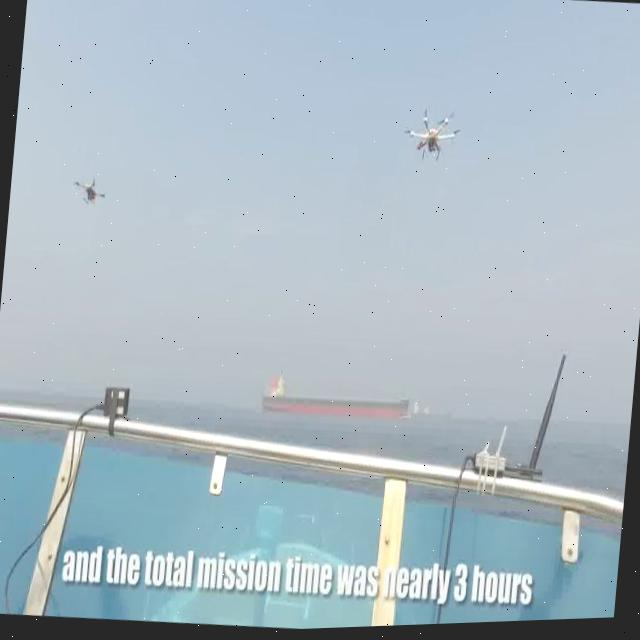drone: (404, 102, 460, 171), (69, 169, 109, 209)
